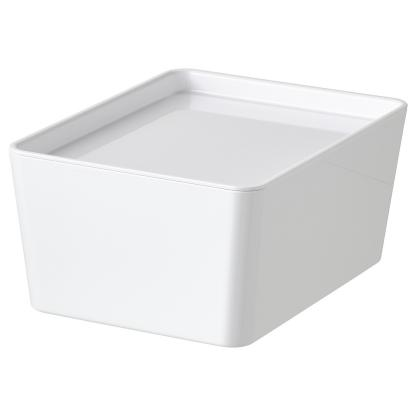plastic_box: (5, 22, 412, 356)
